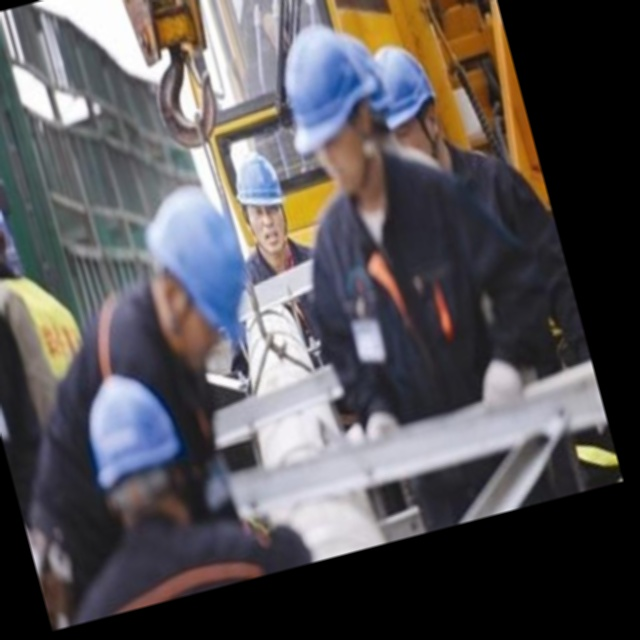Con_Casco: (229, 149, 295, 257)
